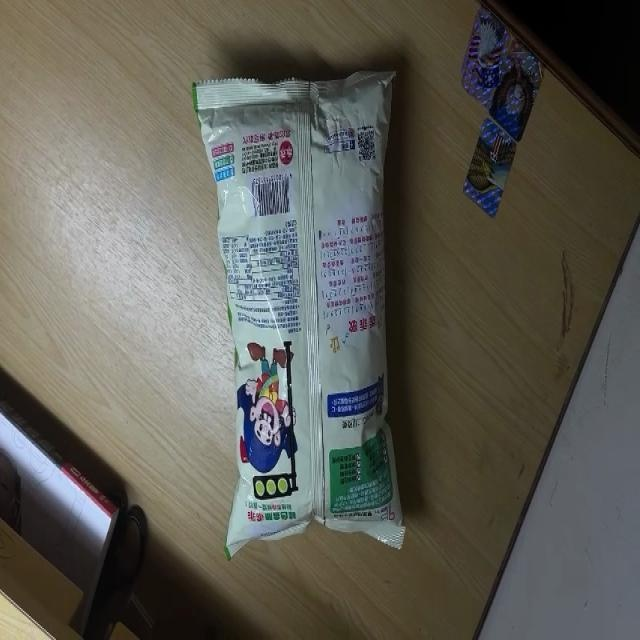Good-Luck: (189, 61, 408, 564)
